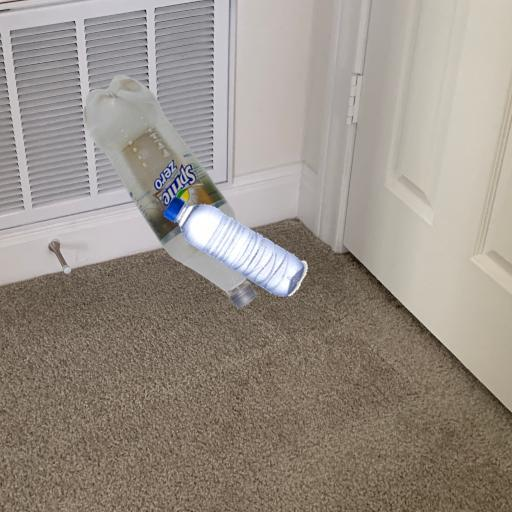bottle: (0, 0, 159, 158)
